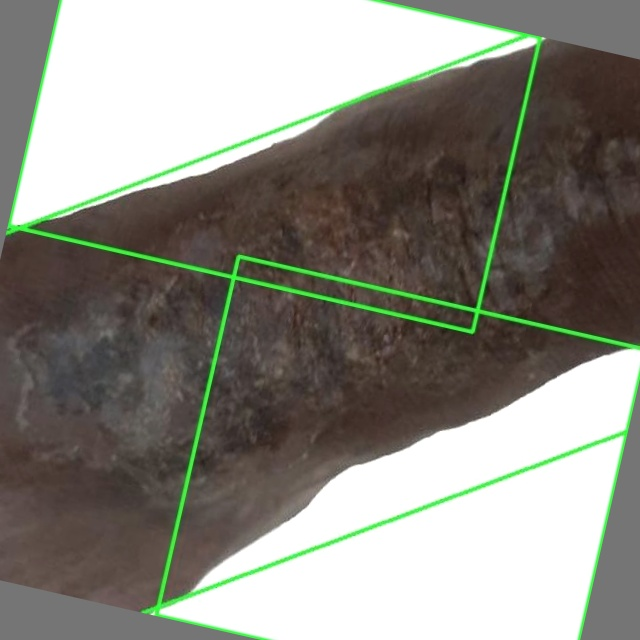Contact Dermatitis: (0, 67, 639, 582), (156, 256, 639, 639), (8, 0, 540, 332)
